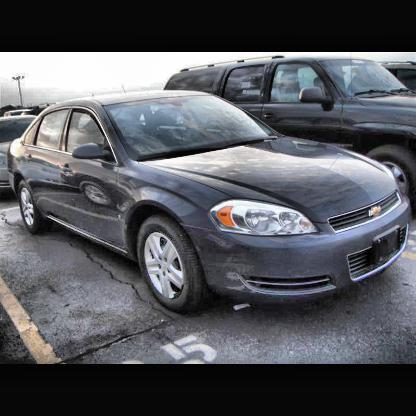Chevrolet Impala Sedan 2007: (6, 88, 416, 318)
